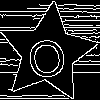O: (23, 28, 70, 81)
